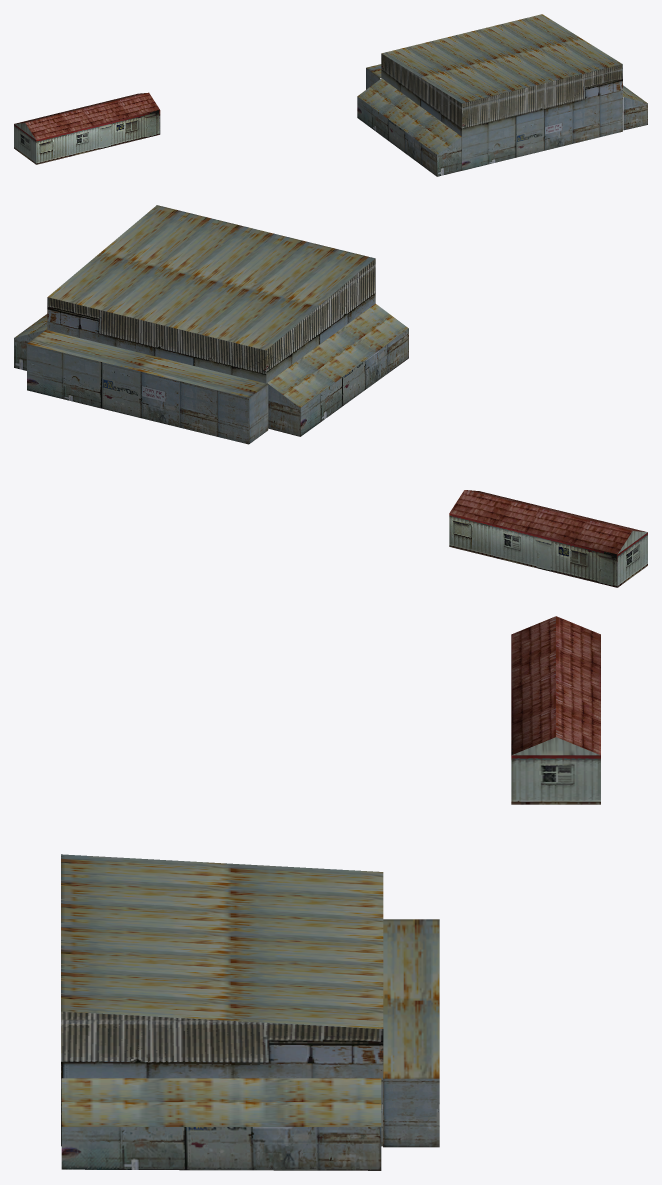
File: south_hangar2.gltf
3 renders of one model, top to bottom at view 1: azimuth 30°, elevation 25°; view 2: azimuth 150°, elevation 25°; view 3: azimuth 270°, elevation 25°, orthographic. The views are drawn at different scales.
Visible parts, largest first — view 1: node1; view 2: node1; view 3: node1.
Boxes of the visible parts, x1,y1,x2,y2 form: node1: [14, 14, 647, 176]; node1: [14, 205, 647, 587]; node1: [61, 616, 600, 1170].
Size of the model in its own units: 62.02 by 8 by 29.04.
